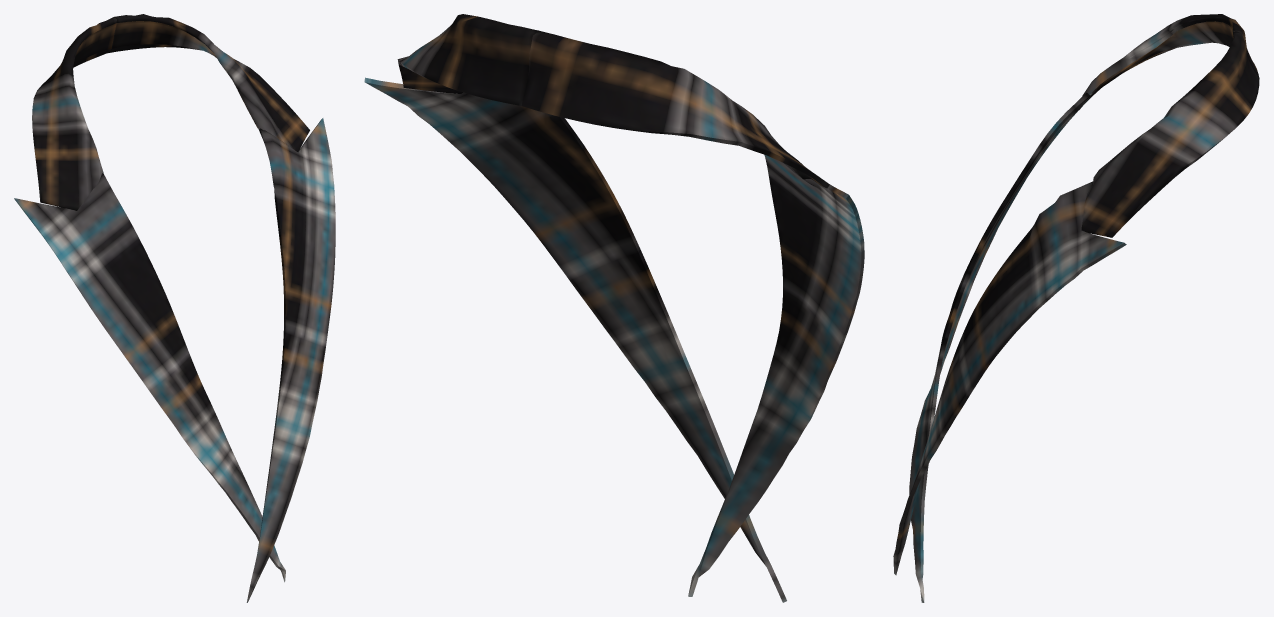
The model's file is peaksb.glb.
The picture shows the model from 3 angles, left to right: view 1: azimuth 30°, elevation 25°; view 2: azimuth 150°, elevation 25°; view 3: azimuth 270°, elevation 25°; orthographic projection. The views are drawn at different scales.
Parts seen in each view (by area): view 1: lapel (×6); view 2: lapel (×4); view 3: lapel (×5).
Part boxes in pixels (bbox=[...]): lapel (×6): bbox=[14, 14, 335, 602]; lapel (×4): bbox=[364, 14, 864, 602]; lapel (×5): bbox=[893, 14, 1259, 602].
Bounding box in the file's own units: 289 × 421 × 253.
Materials: 6 (6 with a texture image).
